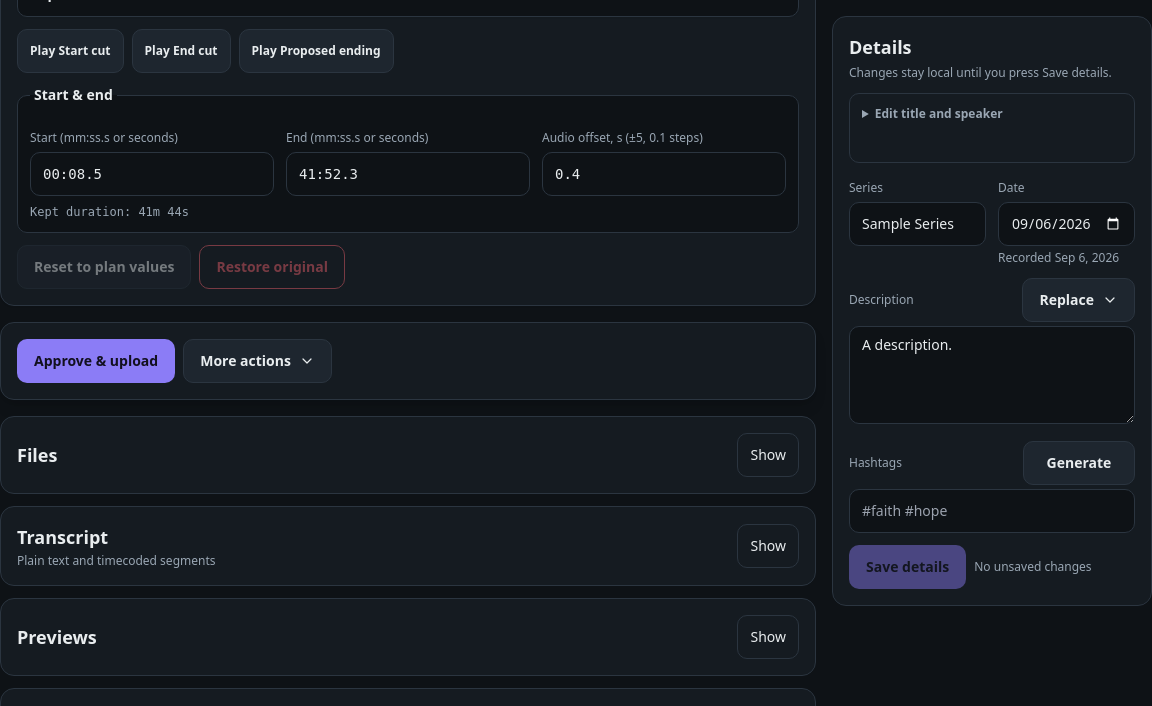
Test: LibraryDetail state-aware header actions › keeps the legacy push for a locally rendered sermon that is not published
The image size is (1152, 706).
(page scrolled)
expect the button "Push to SermonAudio" is not shown: met
Click the button "More actions" at (258, 360), box [183,338,332,382]
(page scrolled)
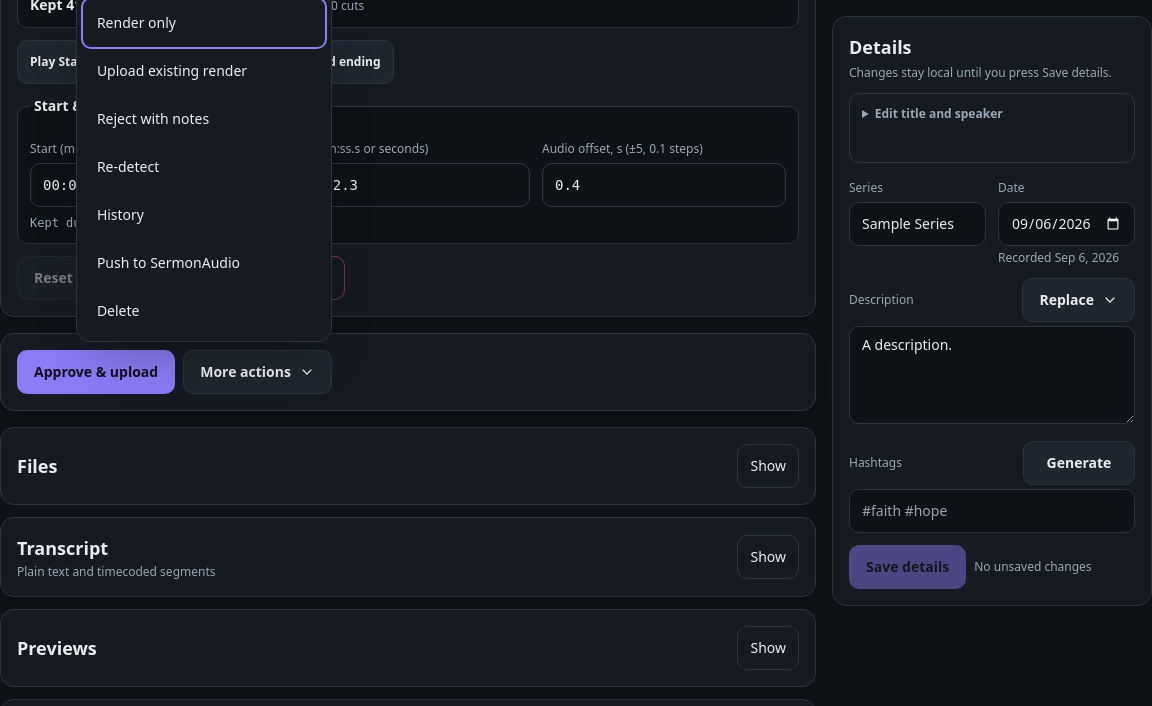
expect the menu item "Push to SermonAudio" is shown: met, box [85,240,323,284]
